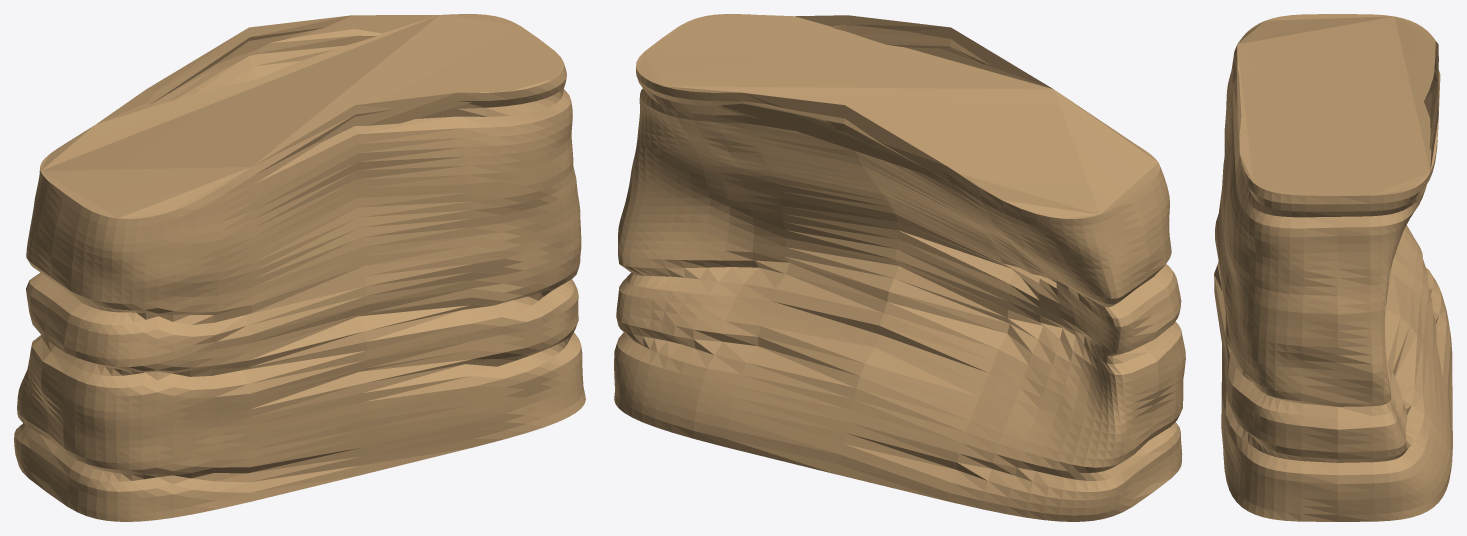
File: cut_face_scoop.glb
3 views of the same model, side by side, from view 1: azimuth 30°, elevation 25°; view 2: azimuth 150°, elevation 25°; view 3: azimuth 270°, elevation 25° (orthographic). The views are drawn at different scales.
Visible parts, largest first — view 1: CutScoop; view 2: CutScoop; view 3: CutScoop.
Part boxes in pixels (x1,y1,x2,y2): CutScoop: (14, 14, 585, 521); CutScoop: (614, 14, 1185, 521); CutScoop: (1214, 14, 1452, 521).
Size of the model in its own units: 6 by 4 by 2.5.
